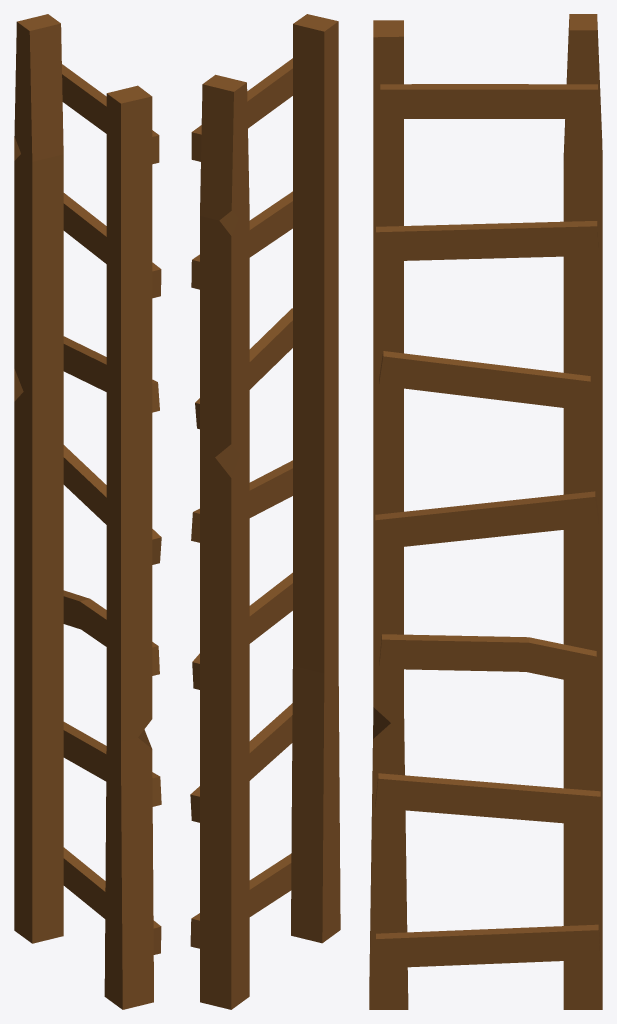
Rendered from Ladder.002.fbx.
3 renders of one model, left to right at view 1: azimuth 30°, elevation 25°; view 2: azimuth 150°, elevation 25°; view 3: azimuth 270°, elevation 25°, orthographic. The views are drawn at different scales.
Parts seen in each view (by area): view 1: ladder.002; view 2: ladder.002; view 3: ladder.002.
Part boxes in pixels (x1,y1,x2,y2): ladder.002: (14,14,161,1009); ladder.002: (190,14,340,1009); ladder.002: (369,14,602,1009).
Size of the model in its own units: 0.16 by 3.33 by 0.72.
